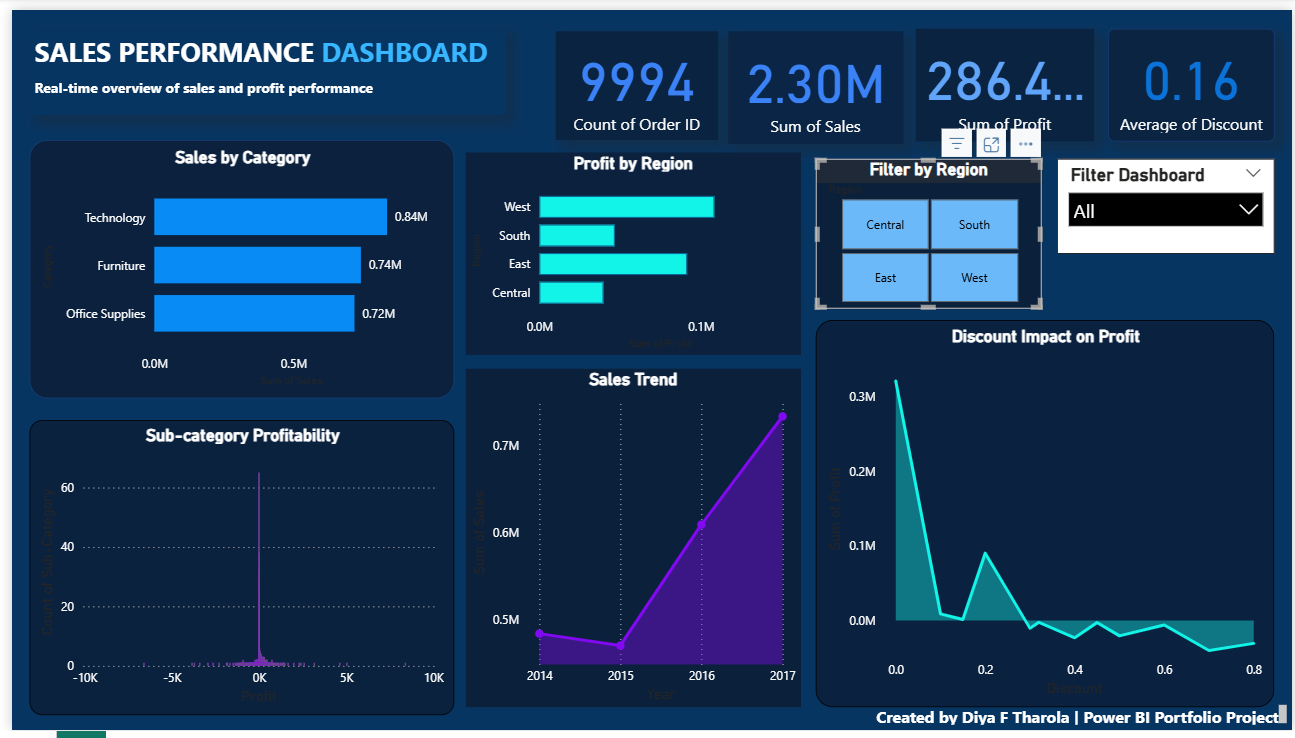

Layout of this report page (visuals, bound fields, positions):
{"tool":"powerbi","page":{"name":"Page 1","canvas":[1280,720],"ordinal":0},"visuals":[{"type":"card","fields":{"Values":["Sum(Sample - Superstore.Sales)"]},"box":[716.2,21.2,175,112.5],"z":0},{"type":"card","fields":{"Values":["Sum(Sample - Superstore.Profit)"]},"box":[903.8,18.8,178.8,112.5],"z":1000},{"type":"card","fields":{"Values":["CountNonNull(Sample - Superstore.Order ID)"]},"box":[543.8,21.2,162.5,108.8],"z":2000},{"type":"card","fields":{"Values":["Avg(Sample - Superstore.Discount)"]},"box":[1096.2,18.8,166.2,112.5],"z":3000},{"type":"clusteredBarChart","title":"Sales by Category","fields":{"Category":["Sample - Superstore.Category"],"Y":["Sum(Sample - Superstore.Sales)"]},"box":[17.5,130,425,258.8],"z":4000},{"type":"clusteredBarChart","title":"Profit by Region","fields":{"Y":["Sum(Sample - Superstore.Profit)"],"Category":["Sample - Superstore.Region"]},"box":[453.8,142.5,335,202.5],"z":5000},{"type":"lineChart","title":"Discount Impact on Profit","fields":{"Y":["Sum(Sample - Superstore.Profit)"],"Category":["Sample - Superstore.Discount"]},"box":[803.8,310,458.8,387.5],"z":6000},{"type":"clusteredColumnChart","title":"Sub-category Profitability","fields":{"Category":["Sample - Superstore.Profit"],"Y":["CountNonNull(Sample - Superstore.Sub-Category)"]},"box":[17.5,410,425,295],"z":7000},{"type":"lineChart","title":"Sales Trend","fields":{"Category":["Sample - Superstore.Order Date.Variation.Date Hierarchy.Year","Sample - Superstore.Order Date.Variation.Date Hierarchy.Quarter","Sample - Superstore.Order Date.Variation.Date Hierarchy.Month","Sample - Superstore.Order Date.Variation.Date Hierarchy.Day"],"Y":["Sum(Sample - Superstore.Sales)"]},"box":[453.8,358.8,335,338.8],"z":8000},{"type":"slicer","title":"Filter by Region","fields":{"Values":["Sample - Superstore.Region"]},"box":[803.8,148.8,226.2,150],"z":9000},{"type":"textbox","box":[17.5,18.8,476.2,86.2],"z":10000},{"type":"textbox","box":[17.5,62.5,367.5,71.2],"z":11000},{"type":"slicer","fields":{"Values":["Sample - Superstore.Order Date","Sample - Superstore.Region","Sample - Superstore.Category"]},"box":[1045,148.8,217.5,95],"z":12000},{"type":"textbox","box":[858.8,690,421.2,30],"z":13000}]}

Visuals, with their boxes in screenshot pixels (x1, y1, x2, y2), scaled from the page's 1280x720 canvas onto the 1295x738 screenshot:
card - Sum(Sample - Superstore.Sales): <bbox>725, 22, 902, 137</bbox>
card - Sum(Sample - Superstore.Profit): <bbox>914, 19, 1095, 135</bbox>
card - CountNonNull(Sample - Superstore.Order ID): <bbox>550, 22, 715, 133</bbox>
card - Avg(Sample - Superstore.Discount): <bbox>1109, 19, 1277, 135</bbox>
"Sales by Category" clusteredBarChart: <bbox>18, 133, 448, 399</bbox>
"Profit by Region" clusteredBarChart: <bbox>459, 146, 798, 354</bbox>
"Discount Impact on Profit" lineChart: <bbox>813, 318, 1277, 715</bbox>
"Sub-category Profitability" clusteredColumnChart: <bbox>18, 420, 448, 723</bbox>
"Sales Trend" lineChart: <bbox>459, 368, 798, 715</bbox>
"Filter by Region" slicer: <bbox>813, 153, 1042, 306</bbox>
textbox: <bbox>18, 19, 499, 108</bbox>
textbox: <bbox>18, 64, 390, 137</bbox>
slicer - Sample - Superstore.Order Date x Sample - Superstore.Region: <bbox>1057, 153, 1277, 250</bbox>
textbox: <bbox>869, 707, 1294, 737</bbox>
